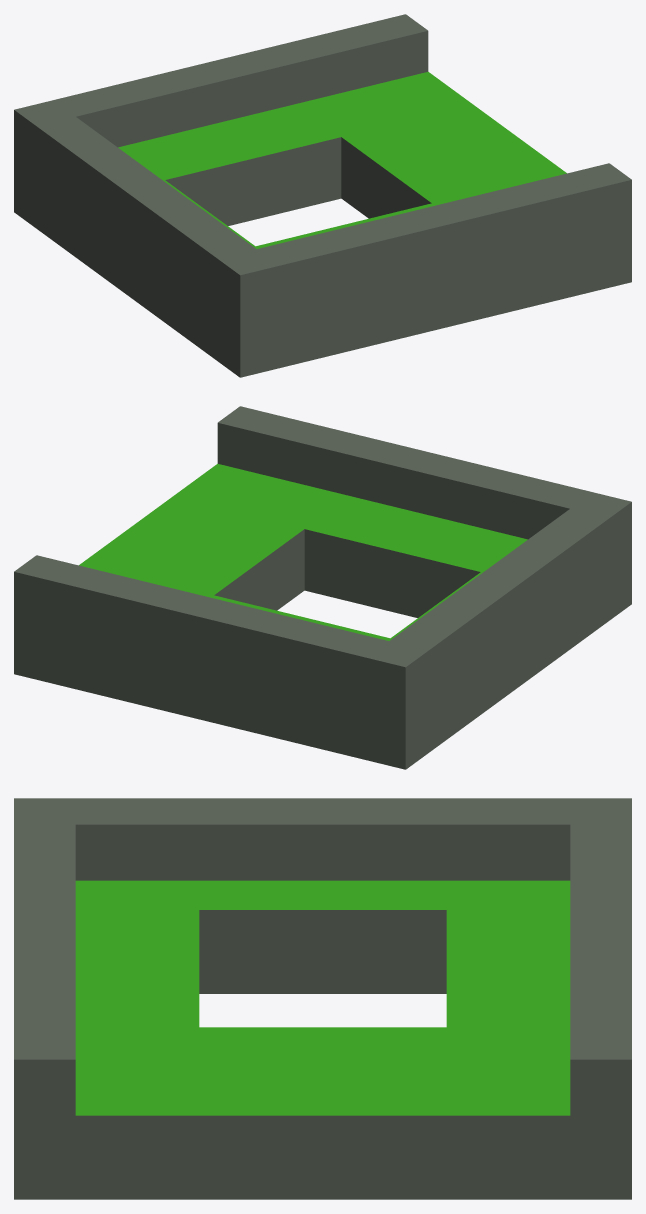
The model's file is EndDrop.fbx.
3 views of the same model, one above another, from view 1: azimuth 30°, elevation 25°; view 2: azimuth 150°, elevation 25°; view 3: azimuth 270°, elevation 25° (orthographic). The views are drawn at different scales.
Parts seen in each view (by area): view 1: Plane.010; view 2: Plane.010; view 3: Plane.010.
Boxes of the visible parts, x1,y1,x2,y2 form: Plane.010: (14,14,631,377); Plane.010: (14,406,631,769); Plane.010: (14,798,631,1199).
Bounding box in the file's own units: 200 × 50 × 200.
